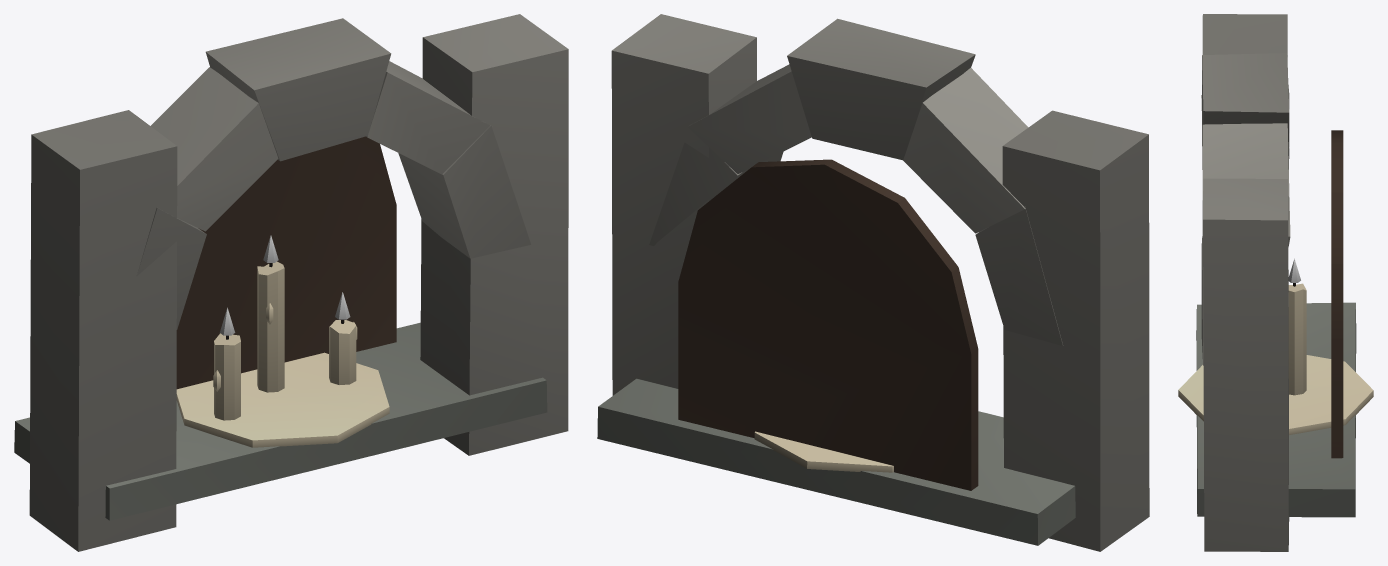
File: ph_int_candle_niche.glb
3 renders of one model, left to right at view 1: azimuth 30°, elevation 25°; view 2: azimuth 150°, elevation 25°; view 3: azimuth 270°, elevation 25°, orthographic. The views are drawn at different scales.
Parts seen in each view (by area): view 1: ph_int_candle_niche; view 2: ph_int_candle_niche; view 3: ph_int_candle_niche.
Boxes of the visible parts, x1,y1,x2,y2 form: ph_int_candle_niche: [14, 14, 568, 551]; ph_int_candle_niche: [597, 14, 1149, 551]; ph_int_candle_niche: [1178, 14, 1373, 551].
Bounding box in the file's own units: 0.8019 × 0.6616 × 0.3192.
